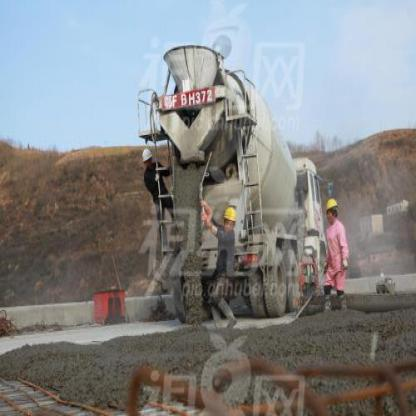helmet: (221, 205, 240, 235), (324, 197, 338, 225), (139, 144, 154, 168)
